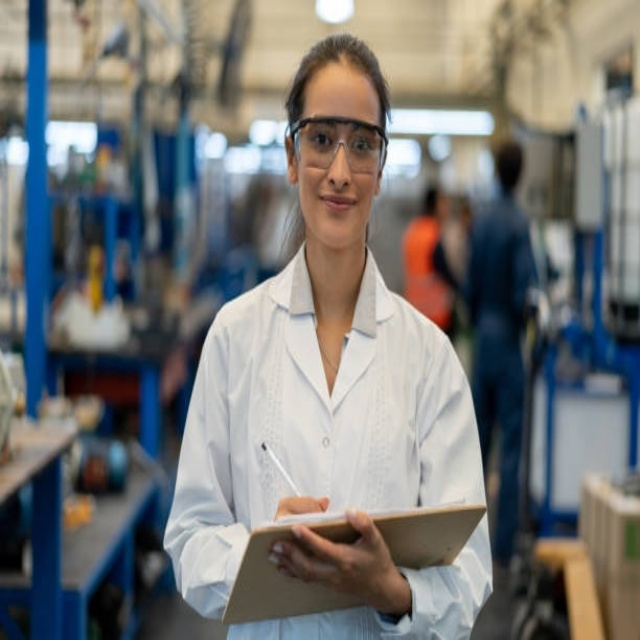Gafas: (290, 118, 388, 175)
Sin_guantes: (275, 505, 397, 608)
Sin_mascara: (315, 184, 363, 238)
